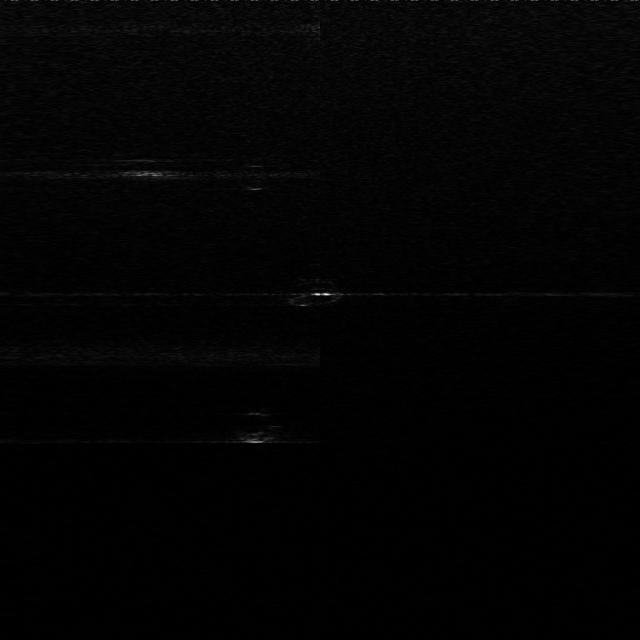ball: (228, 404, 292, 449)
tyre: (284, 272, 348, 311)
